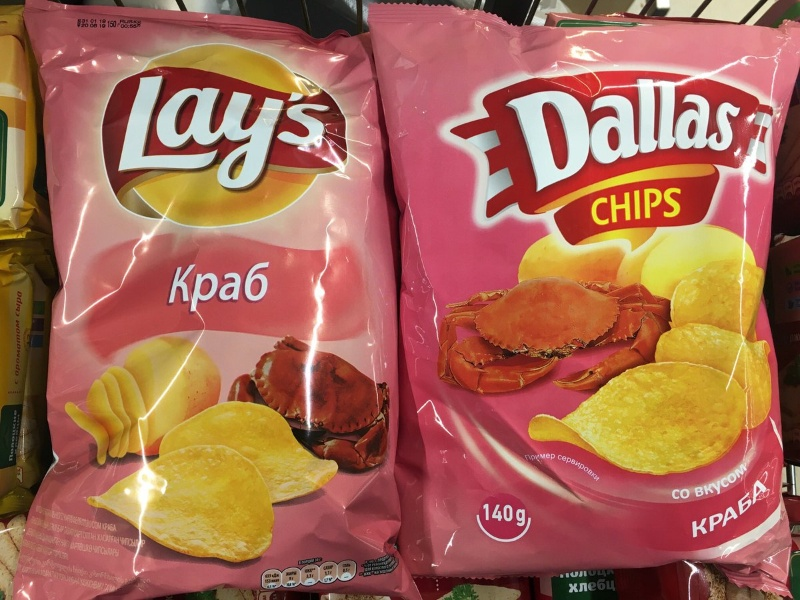chips: (348, 1, 800, 596), (3, 1, 436, 600)
